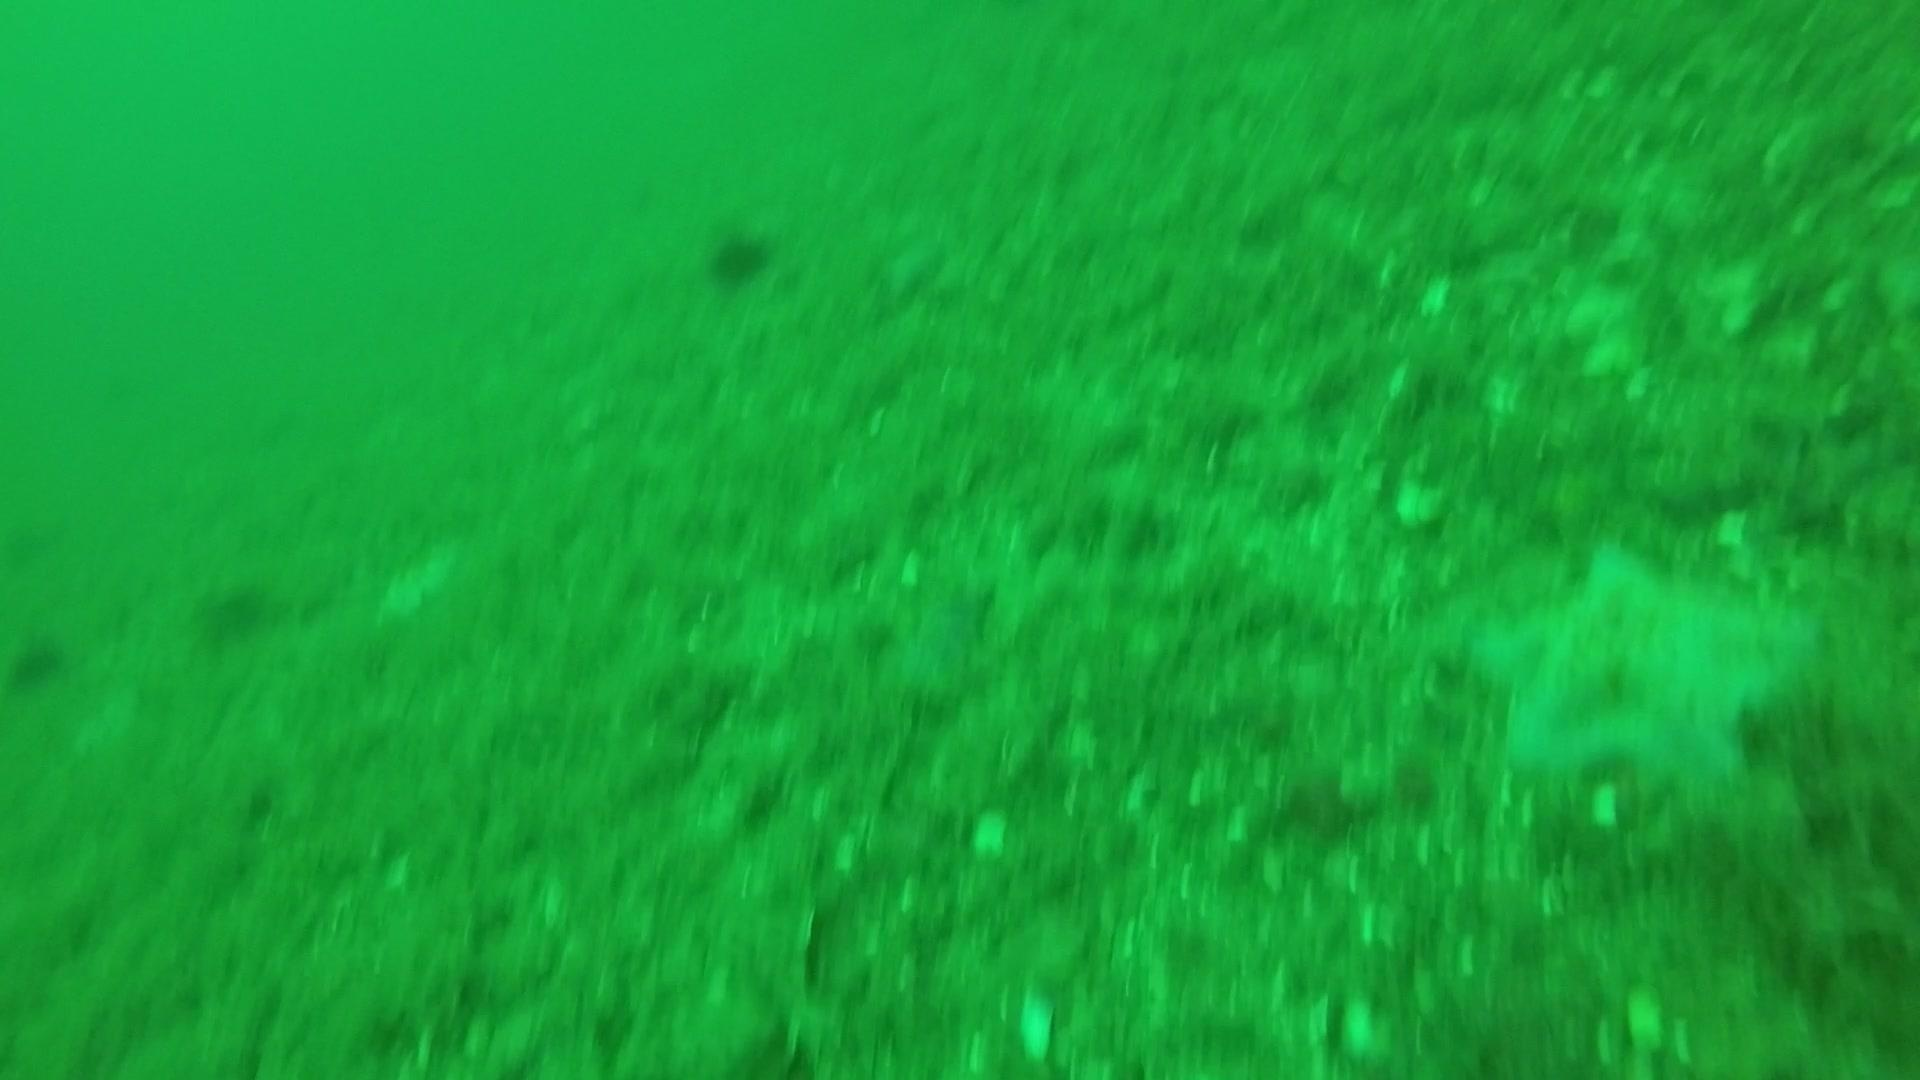echinus: (193, 574, 278, 646), (702, 222, 775, 287), (3, 628, 73, 696)
starfish: (1456, 531, 1826, 800), (872, 575, 1002, 707)
